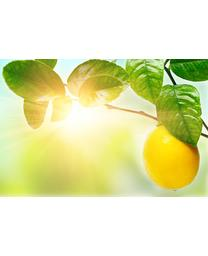lemon: (143, 124, 200, 191)
